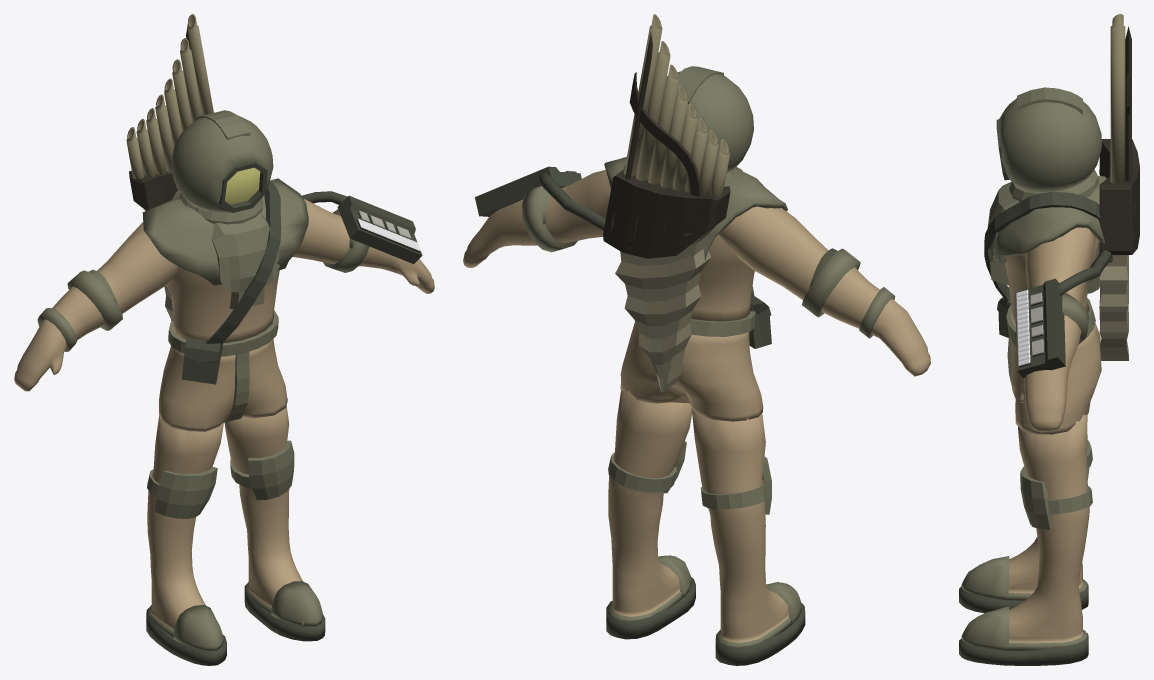
File: Perso 01b.fbx
3 renders of one model, left to right at view 1: azimuth 30°, elevation 25°; view 2: azimuth 150°, elevation 25°; view 3: azimuth 270°, elevation 25°, orthographic. The views are drawn at different scales.
Visible parts, largest first — view 1: Bag01; view 2: Bag01; view 3: Bag01.
Part boxes in pixels (x1,y1,x2,y2): Bag01: (14, 14, 434, 665); Bag01: (463, 14, 930, 665); Bag01: (959, 14, 1139, 665).
Bounding box in the file's own units: 1.62 × 2.17 × 0.5784.
